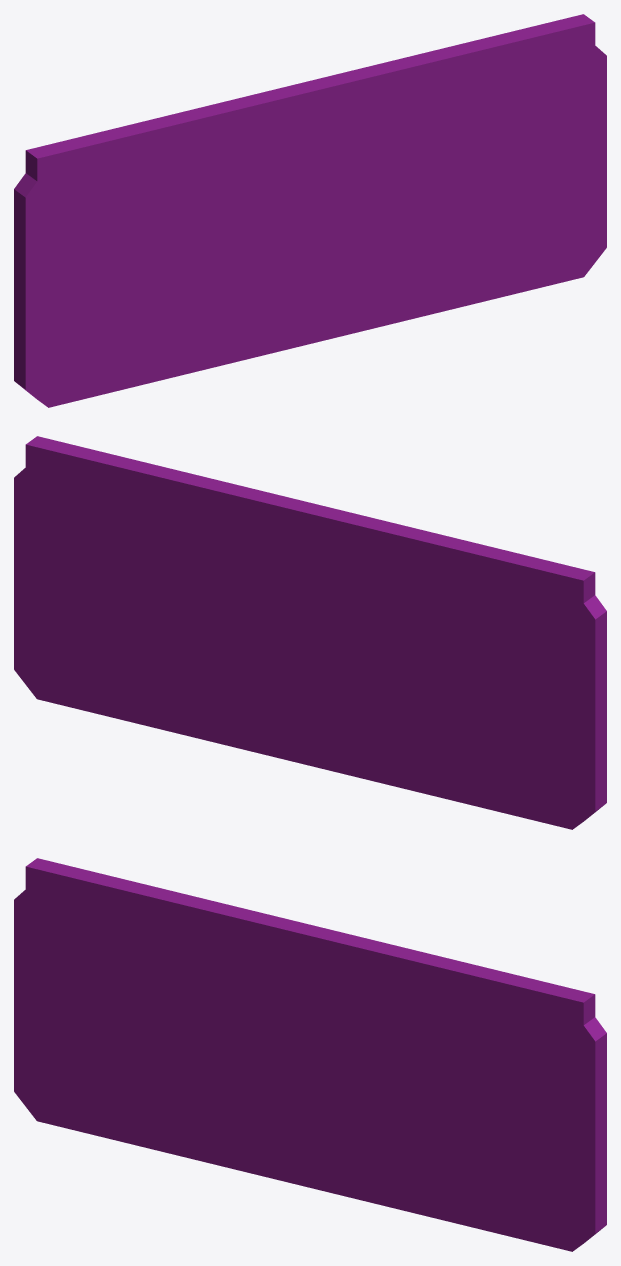
File: sala9-Cobertura-01.FBX
3 views of the same model, one above another, from view 1: azimuth 30°, elevation 25°; view 2: azimuth 150°, elevation 25°; view 3: azimuth 330°, elevation 25° (orthographic).
Visible parts, largest first — view 1: sala9-Cobertura; view 2: sala9-Cobertura; view 3: sala9-Cobertura.
Part boxes in pixels (x1,y1,x2,y2): sala9-Cobertura: (14, 14, 606, 407); sala9-Cobertura: (14, 436, 606, 829); sala9-Cobertura: (14, 858, 606, 1251).
Size of the model in its own units: 1743 by 722 by 60.
